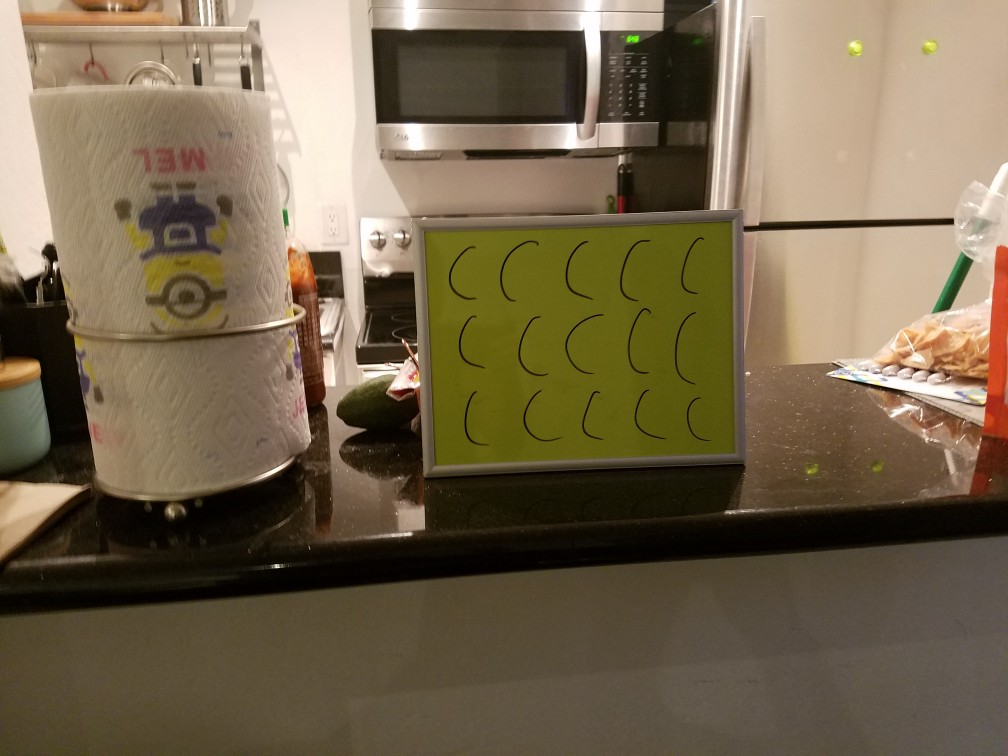(: (666, 305, 705, 388), (497, 236, 542, 306), (564, 313, 610, 381), (562, 235, 603, 306), (516, 386, 560, 448), (442, 241, 482, 307), (616, 234, 652, 304), (626, 303, 659, 379), (516, 312, 547, 383), (671, 234, 707, 295), (685, 392, 721, 447), (454, 313, 487, 371), (579, 386, 607, 450), (633, 385, 662, 446), (460, 387, 485, 453)
